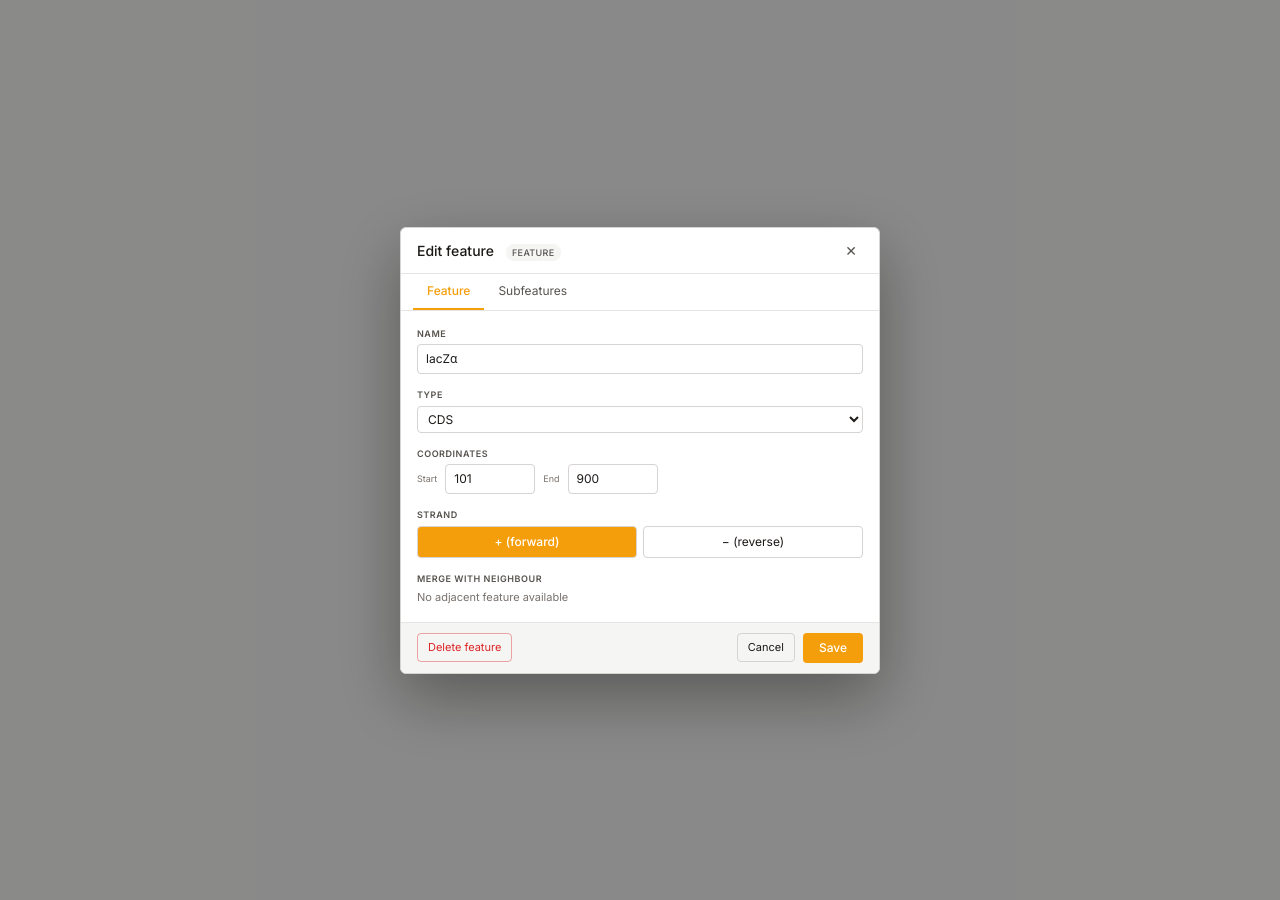
Test: FeatureEditorModal — Split sub-features / Merge / Delete › opening the modal on a region keeps the Subfeatures tab
Click the button with test id "feature-editor-tab-subfeatures": click(533, 292) 484,274 -> 581,310
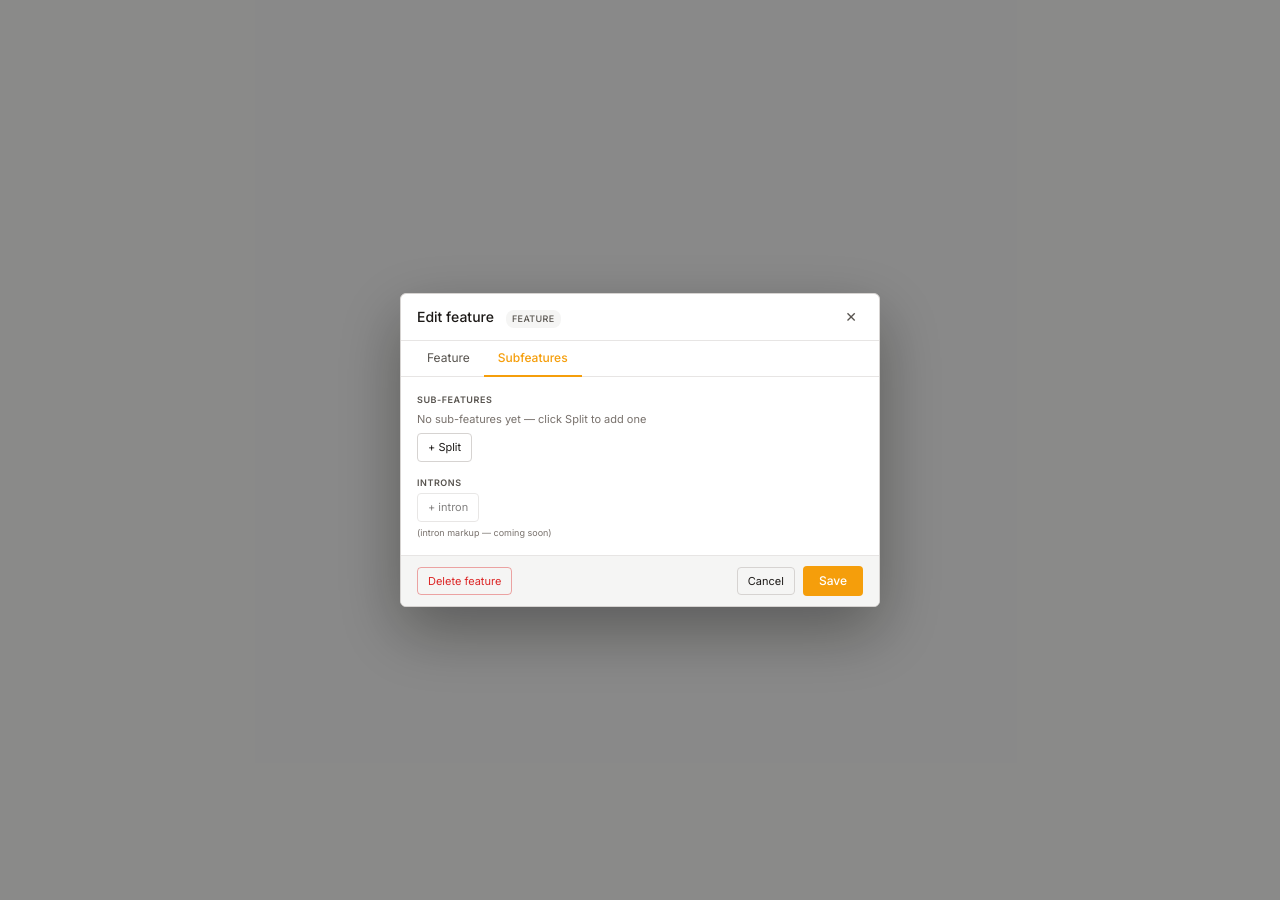
Now the button with test id "feature-editor-split" is shown, box 417,433 -> 472,462
